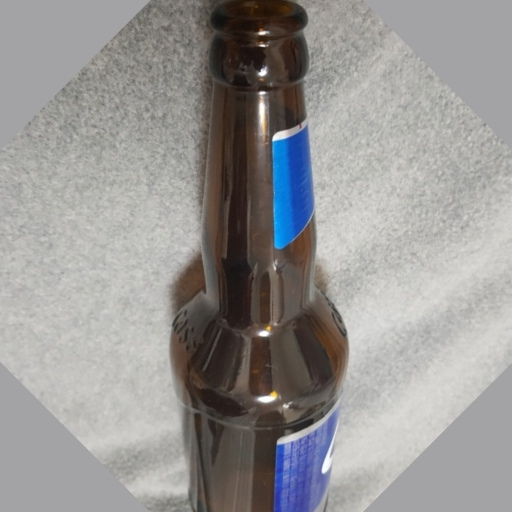Glass_1: (170, 1, 350, 512)
